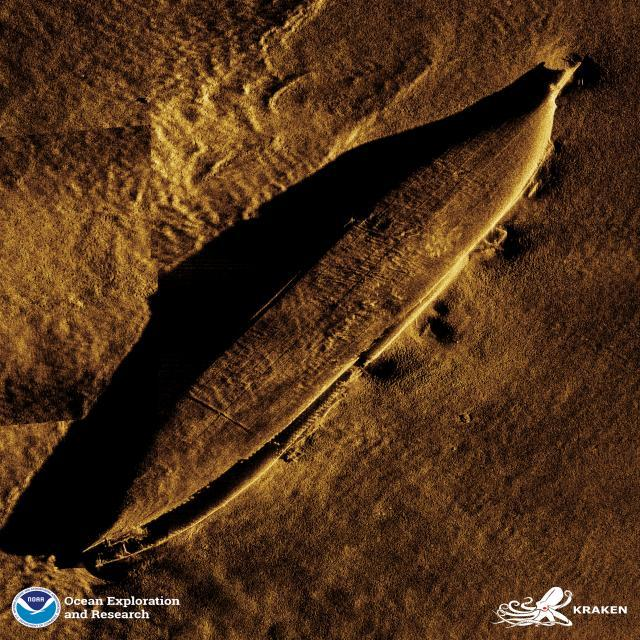shipwreck: (77, 58, 594, 574)
